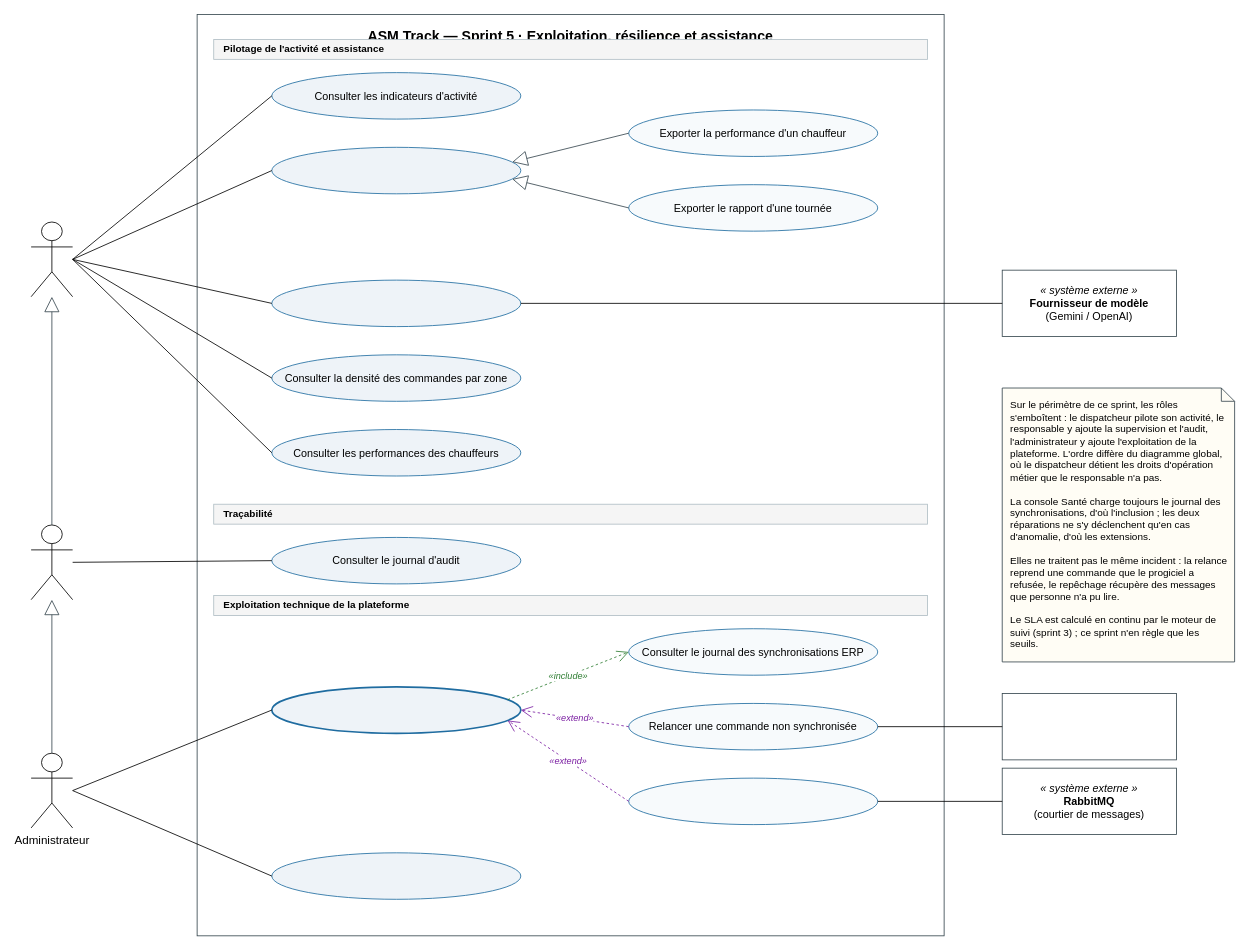
This 1249x950 diagram has some shape labels left out. The centre of each missing label's shape, as x and y in pixels:
"Consulter la console Santé Système" goes at (396,710).
"Dispatcheur" goes at (51,259).
"Exporter un rapport en PDF" goes at (396,170).
"Interroger l'assistant" goes at (396,303).
"Repêcher les messages bloqués d'une file" goes at (753,801).
"Responsable (supervision)" goes at (51,562).
"Régler les seuils SLA" goes at (396,875).
"« système externe » Progiciel du client (Odoo / ERPNext)" goes at (1089,726).
